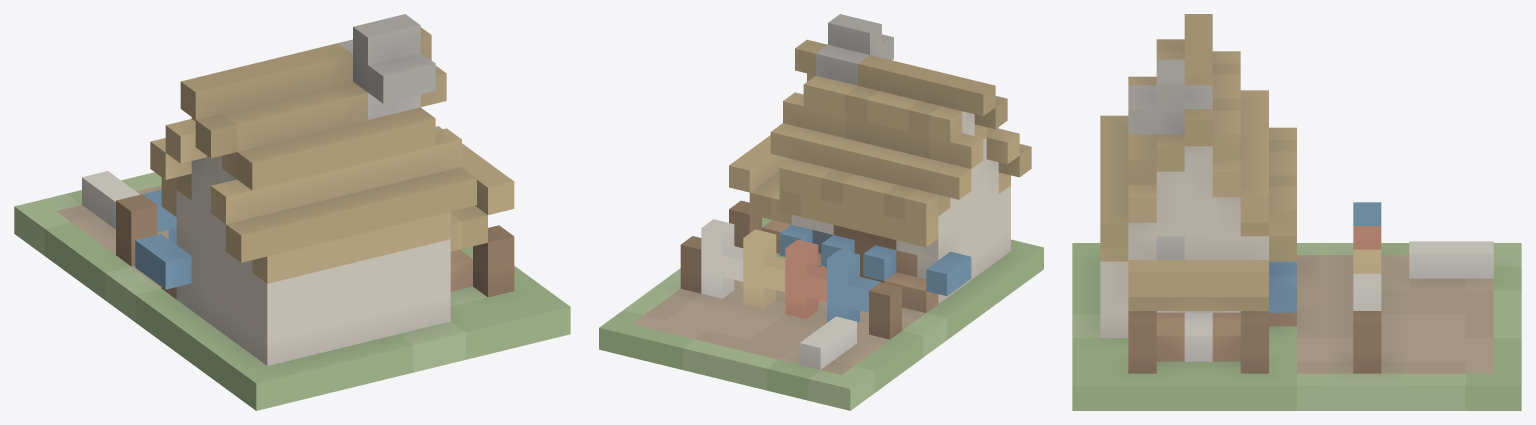
Rendered from weaver_wool.lite.glb.
3 renders of one model, left to right at view 1: azimuth 30°, elevation 25°; view 2: azimuth 150°, elevation 25°; view 3: azimuth 270°, elevation 25°, orthographic. The views are drawn at different scales.
Visible parts, largest first — view 1: weaver_wool; view 2: weaver_wool; view 3: weaver_wool.
Part boxes in pixels (left/top/right/bottom): weaver_wool: left=14, top=14, right=570, bottom=410; weaver_wool: left=599, top=14, right=1043, bottom=410; weaver_wool: left=1072, top=14, right=1521, bottom=410.
Bounding box in the file's own units: 3 × 2.75 × 4.
